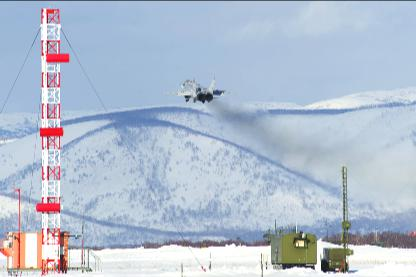Mig31: (162, 76, 238, 102)
